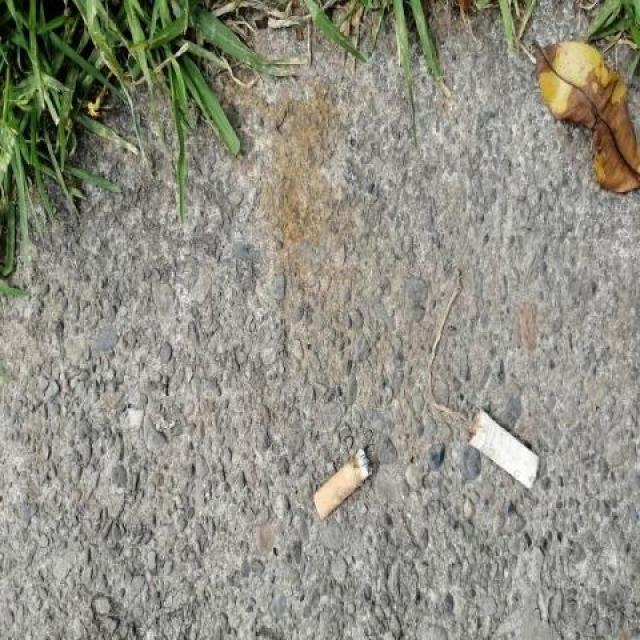non-organic waste: (464, 403, 541, 494), (310, 442, 378, 522)
